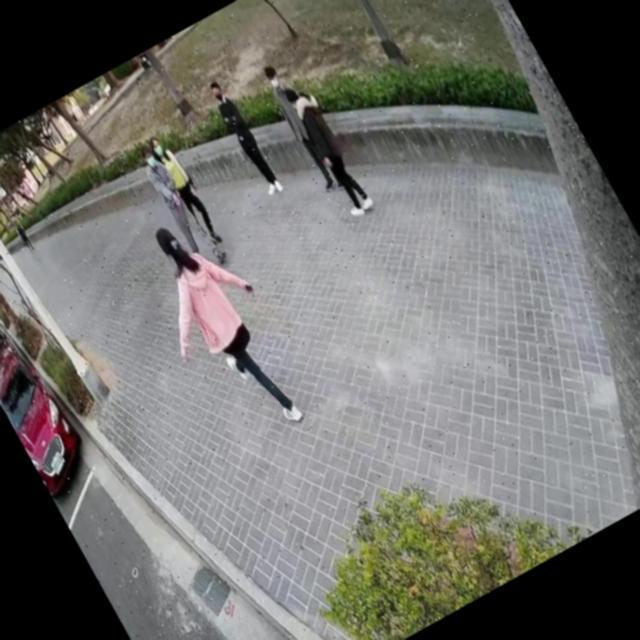person: (115, 194, 325, 462), (278, 71, 381, 222), (256, 54, 354, 200), (132, 133, 232, 275), (200, 70, 290, 203), (144, 126, 228, 254), (8, 214, 38, 256)
